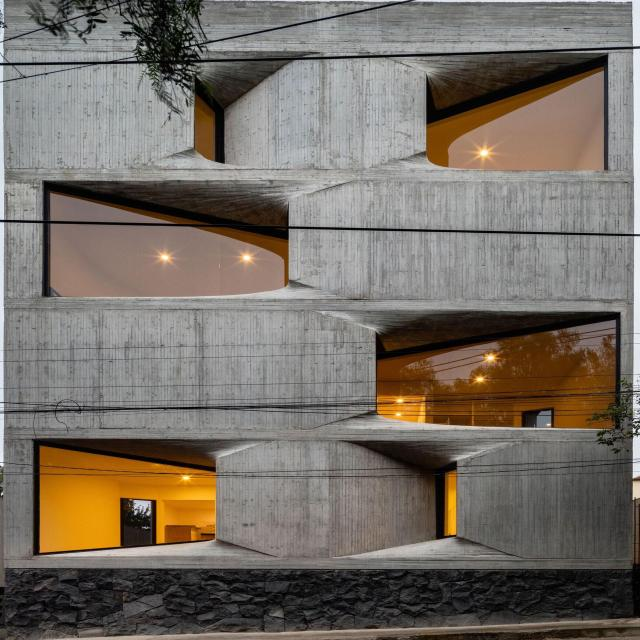window: (376, 317, 618, 428), (48, 190, 289, 297), (38, 444, 217, 555), (427, 67, 604, 171), (194, 92, 218, 164), (444, 468, 458, 536)
